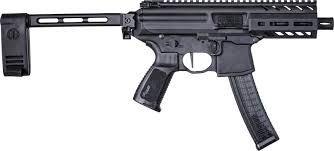Arma Real: (1, 1, 334, 144)
